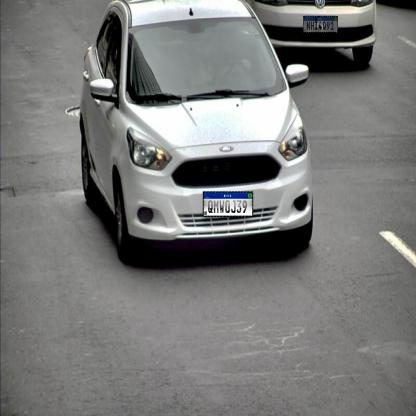PlacaM: (203, 191, 253, 217), (303, 16, 338, 33)
